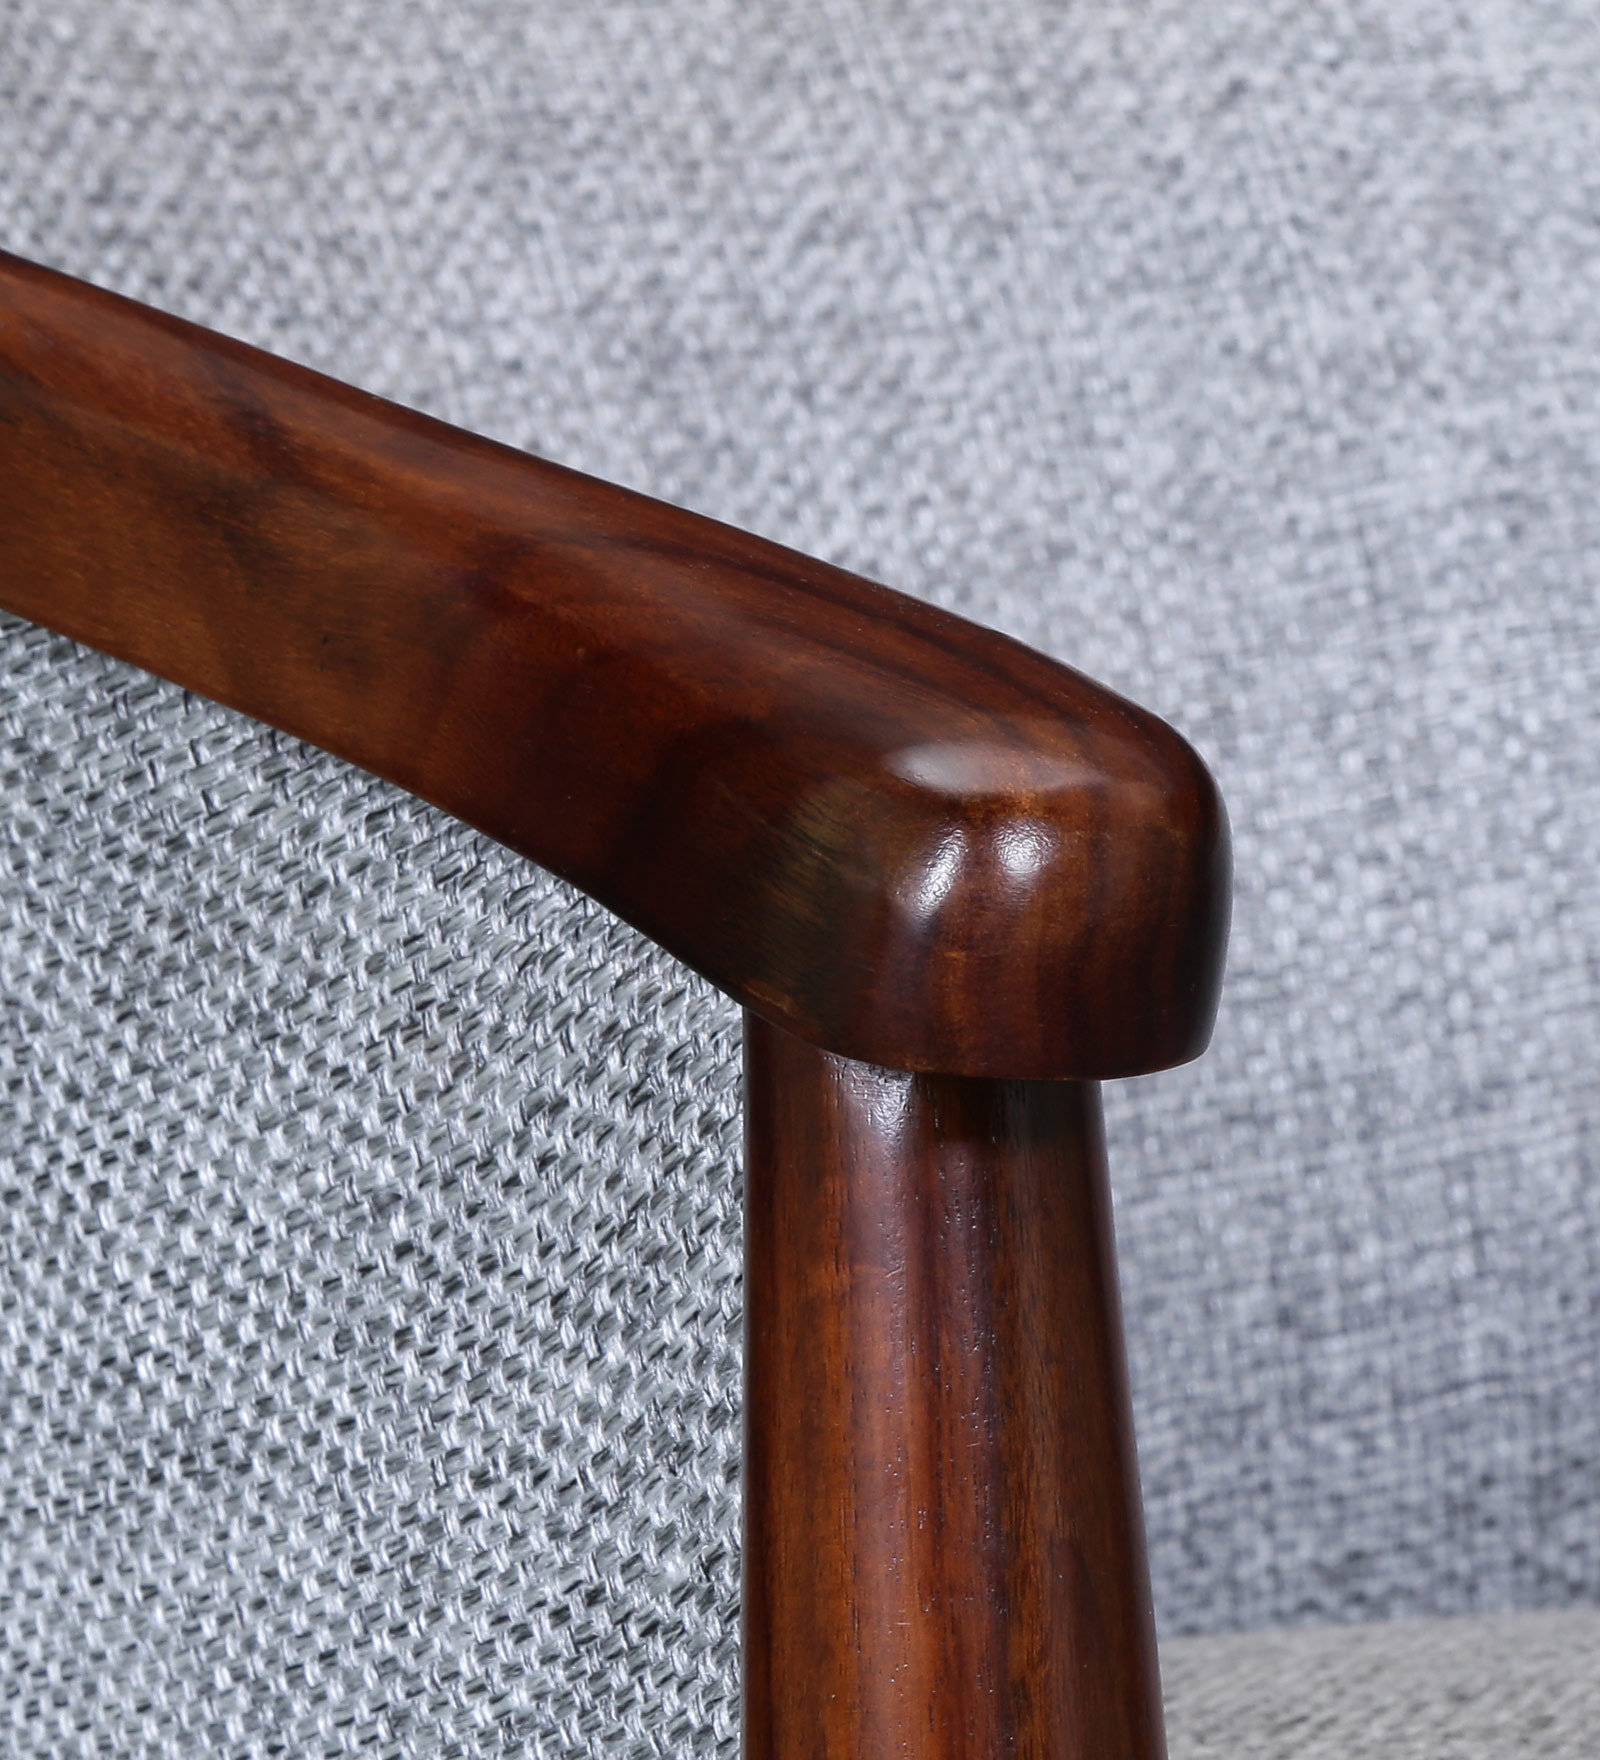Stalley Arm Chair in Grey Color with Honey Oak Finish by Amberville: (54, 166, 1505, 1746)
